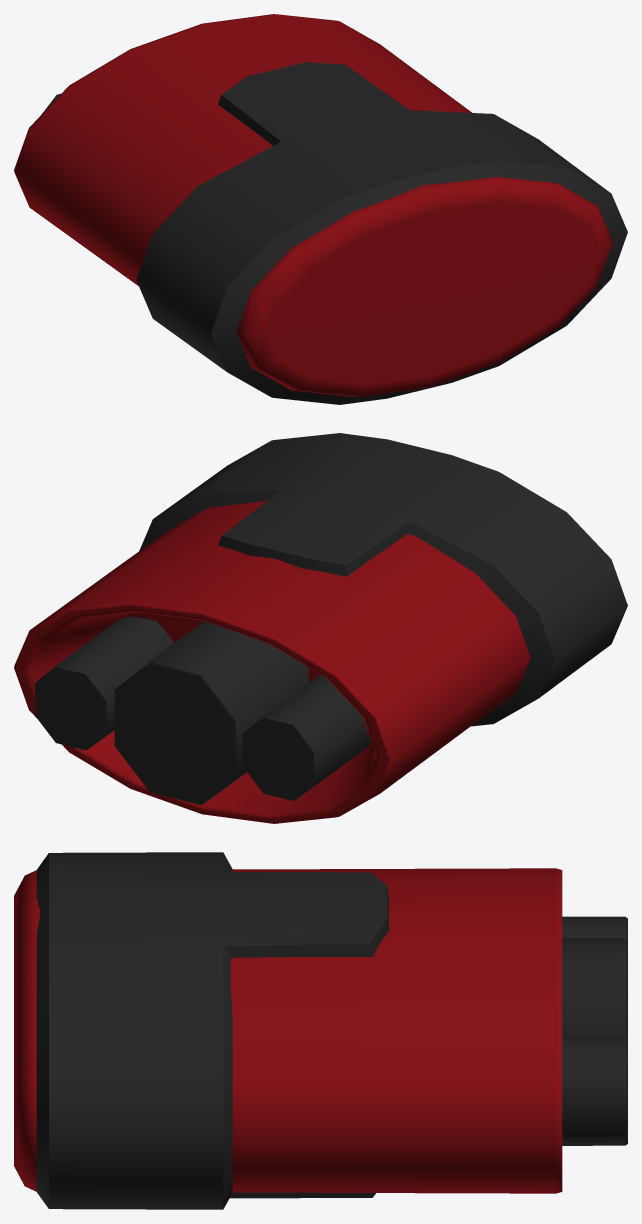
Rendered from Ship_enemy_09_Engine.fbx.
3 renders of one model, top to bottom at view 1: azimuth 30°, elevation 25°; view 2: azimuth 150°, elevation 25°; view 3: azimuth 270°, elevation 25°, orthographic. The views are drawn at different scales.
Visible parts, largest first — view 1: Ship_enemy_09_Engine; view 2: Ship_enemy_09_Engine; view 3: Ship_enemy_09_Engine.
Boxes of the visible parts, box(x1,y1,x2,y2) form: Ship_enemy_09_Engine: box(14, 14, 627, 404); Ship_enemy_09_Engine: box(14, 433, 627, 823); Ship_enemy_09_Engine: box(14, 852, 627, 1209).
Size of the model in its own units: 160 by 79.48 by 172.
